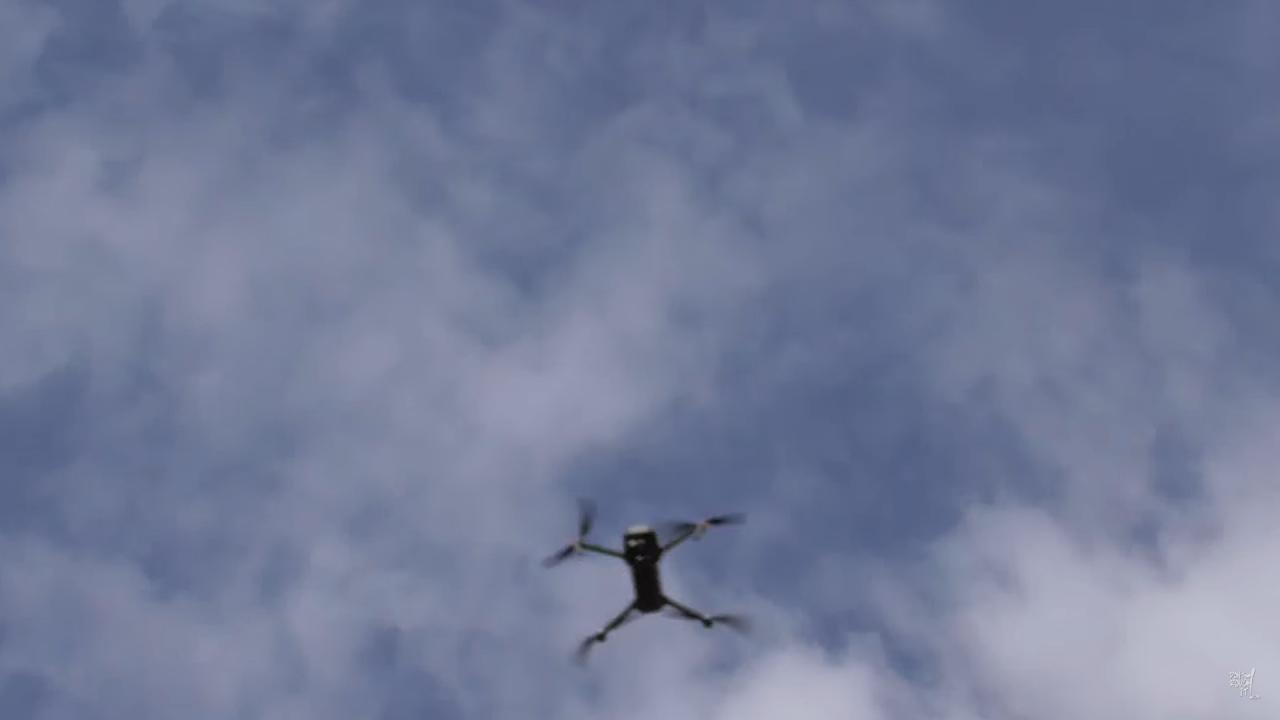Drone: (524, 470, 780, 701)
